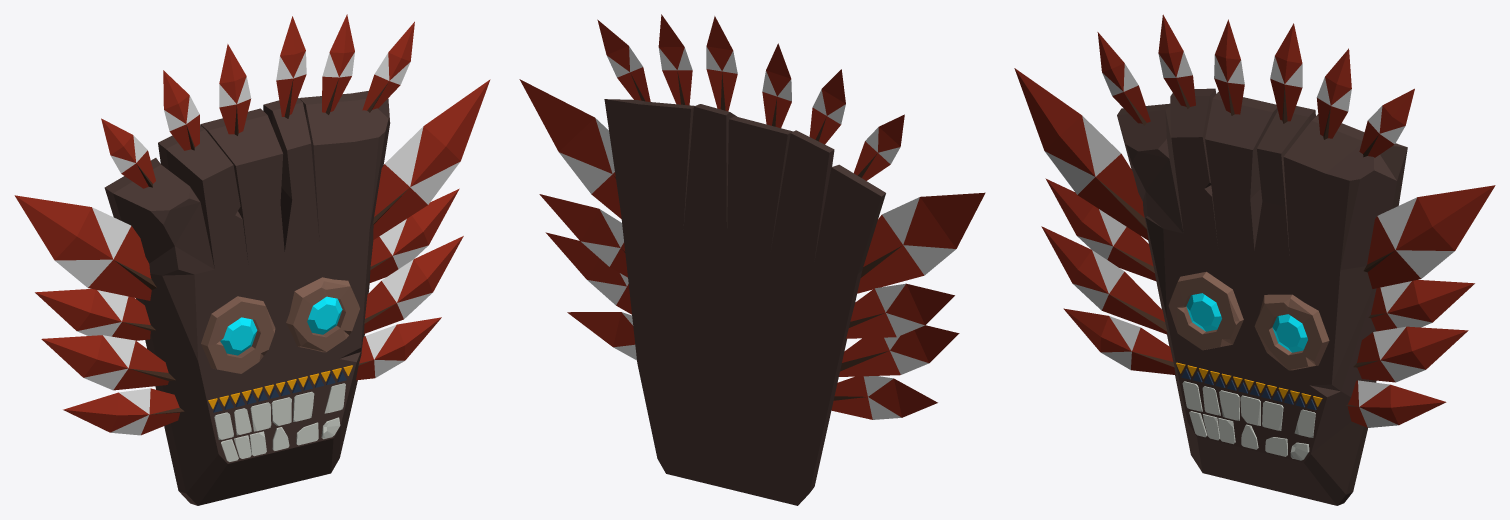
The model's file is Mask_1.fbx.
The picture shows the model from 3 angles, left to right: view 1: azimuth 30°, elevation 25°; view 2: azimuth 150°, elevation 25°; view 3: azimuth 330°, elevation 25°; orthographic projection. The views are drawn at different scales.
Parts seen in each view (by area): view 1: Mask_1; view 2: Mask_1; view 3: Mask_1.
Boxes of the visible parts, box(x1,y1,x2,y2) form: Mask_1: box(14, 14, 490, 505); Mask_1: box(519, 14, 985, 505); Mask_1: box(1014, 14, 1495, 505).
Bounding box in the file's own units: 1.02 × 0.9625 × 0.1059.
